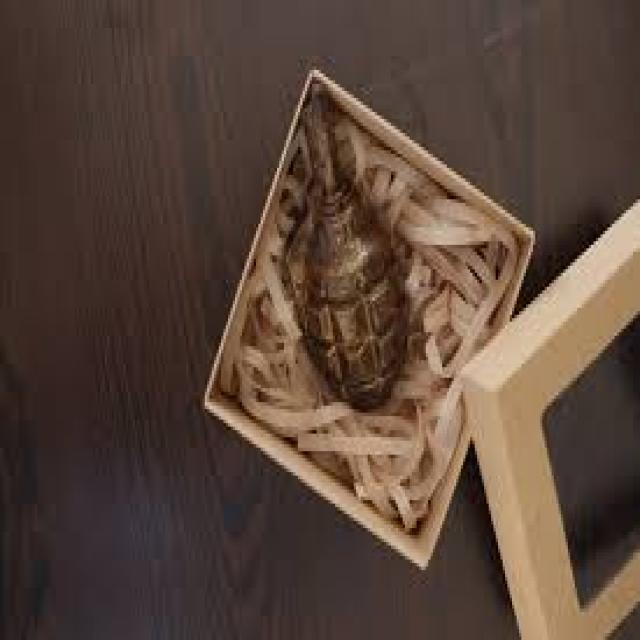grenade: (286, 83, 414, 417)
